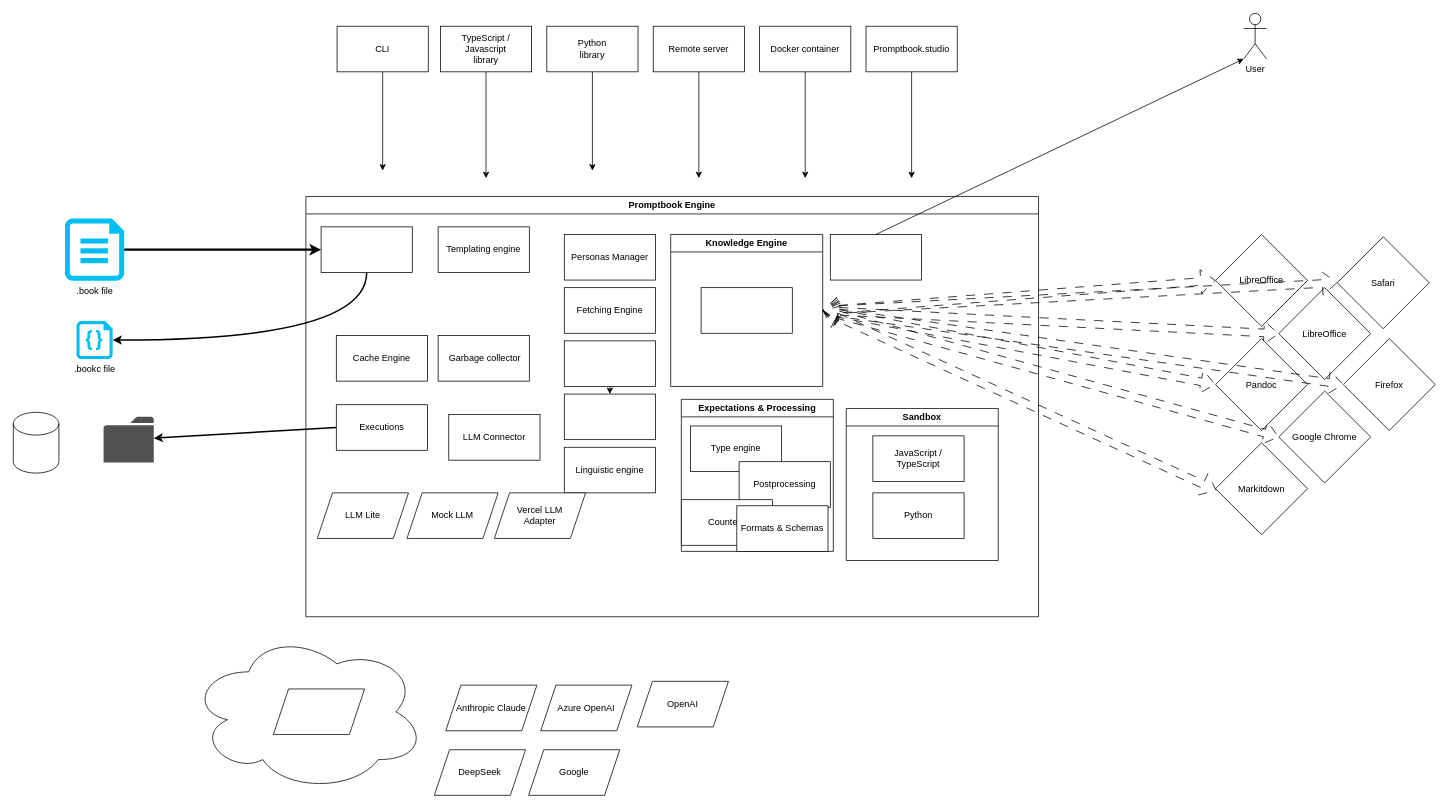
This 1449x809 diagram has some shape labels left out. The centre of each missing label's shape, as x and y in pixels:
"Auth Engine" goes at [610,363].
"Cryptographic Engine" goes at [610,416].
"Parser" goes at [366,249].
"Promptbook cache" goes at [128,439].
"Scrapers & Convertors" goes at [746,310].
"SQLite" goes at [36,442].
"User interactions" goes at [876,257].
